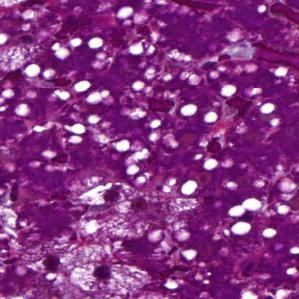ballooning: (66, 259, 153, 298)
